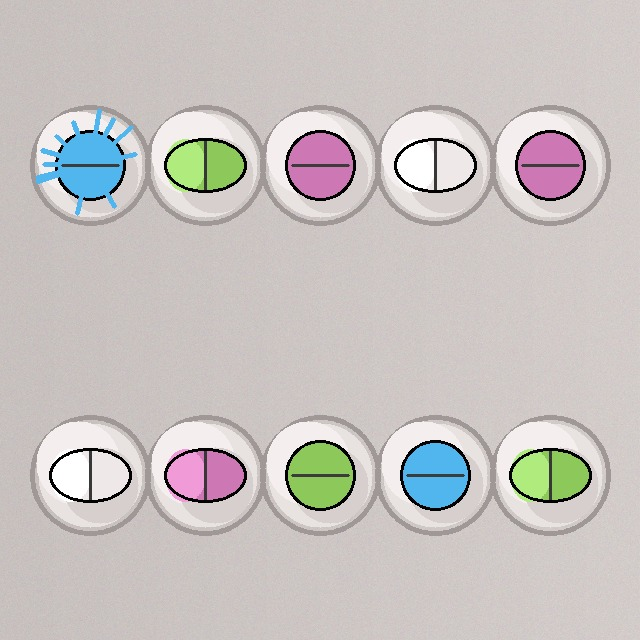flash: (28, 103, 152, 227)
